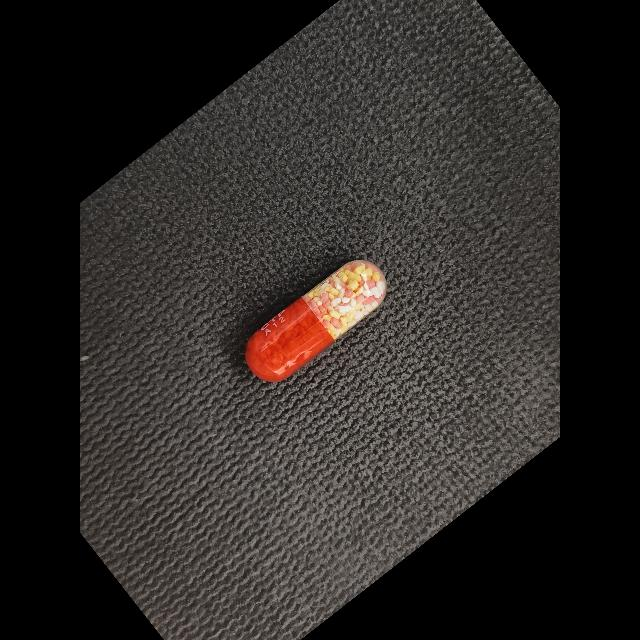Intact Capsule: (245, 260, 387, 382)
